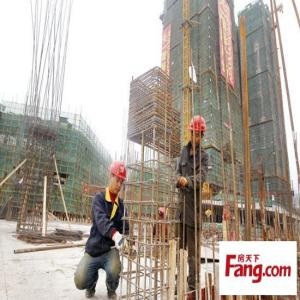red: (109, 160, 127, 195), (189, 116, 207, 147), (156, 207, 165, 223)
